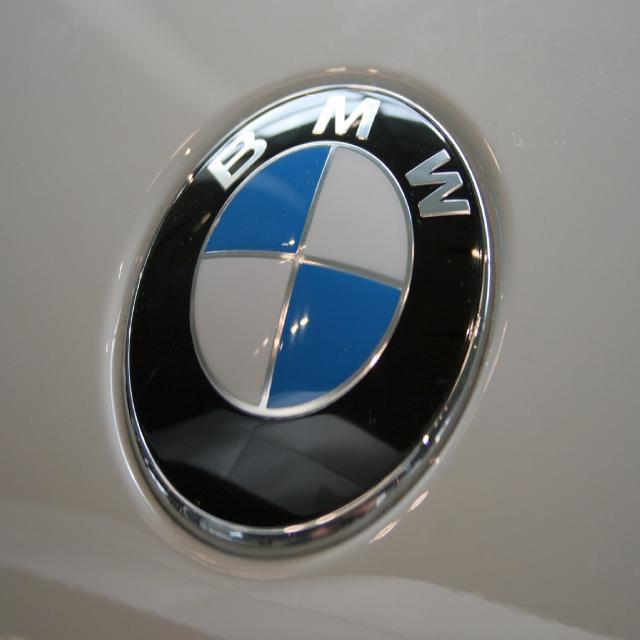bmw: (121, 77, 499, 562)
